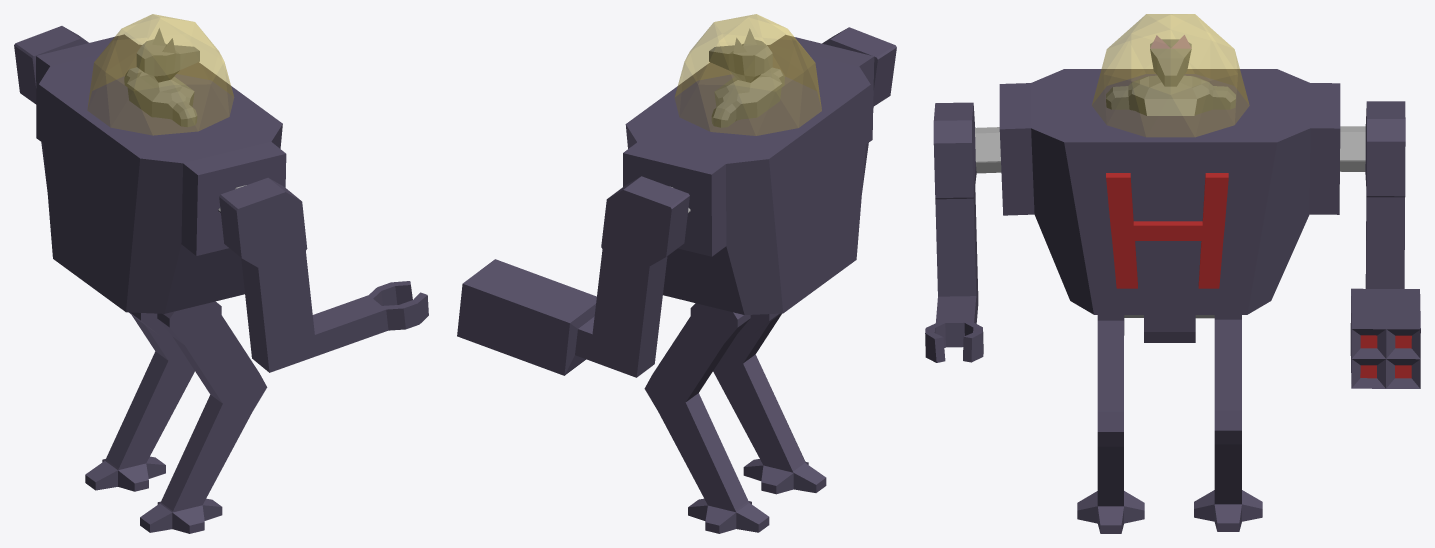
Rendered from husky_boss.fbx.
3 renders of one model, left to right at view 1: azimuth 30°, elevation 25°; view 2: azimuth 150°, elevation 25°; view 3: azimuth 270°, elevation 25°, orthographic. The views are drawn at different scales.
Parts seen in each view (by area): view 1: husky; view 2: husky; view 3: husky.
Boxes of the visible parts, x1,y1,x2,y2 form: husky: [14, 14, 428, 533]; husky: [457, 14, 896, 533]; husky: [925, 14, 1420, 533].
Bounding box in the file's own units: 1152 × 2179 × 1937.
